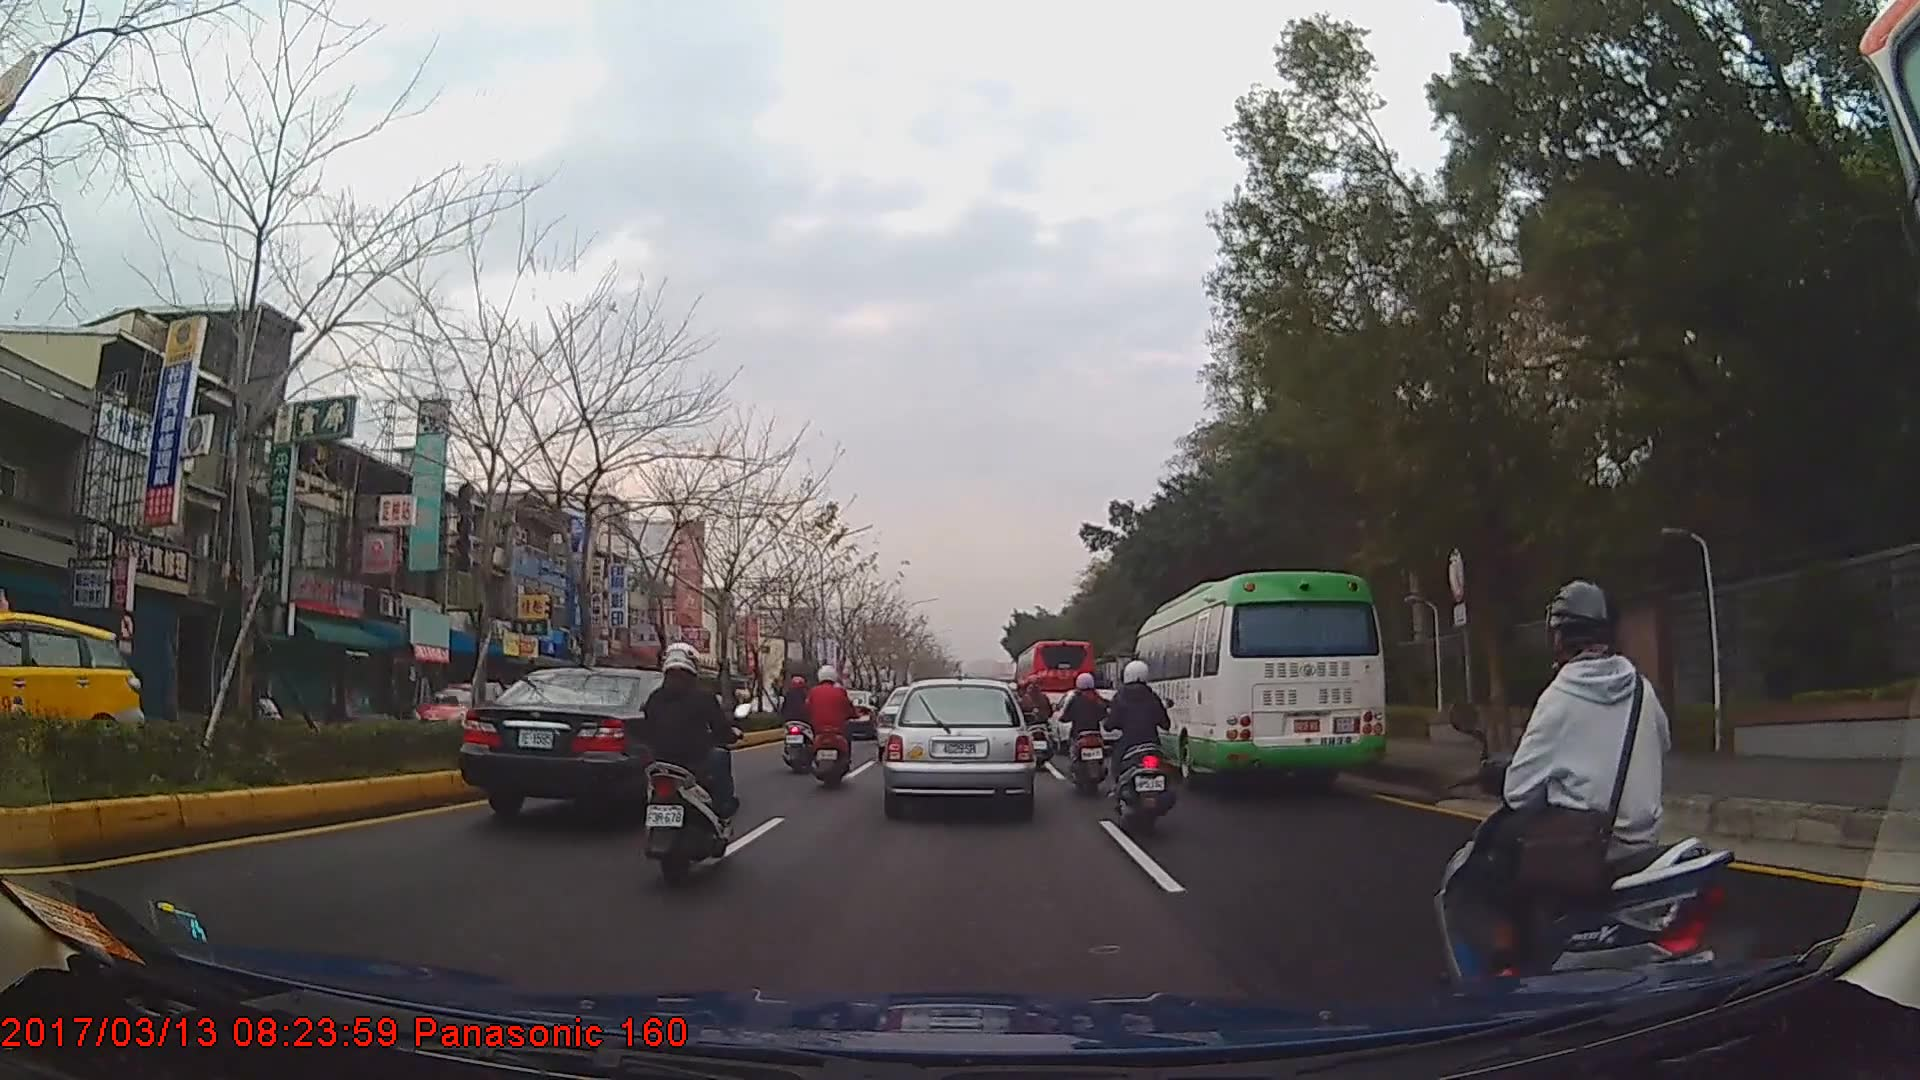rider: (1442, 577, 1739, 999), (640, 636, 748, 885), (1106, 658, 1183, 834), (1059, 669, 1112, 797), (805, 663, 855, 790), (779, 675, 819, 773), (1013, 670, 1050, 769)
vehicle: (1125, 569, 1388, 797), (456, 663, 731, 829), (0, 585, 144, 772), (882, 676, 1033, 816), (1013, 630, 1098, 726), (411, 678, 516, 753)
